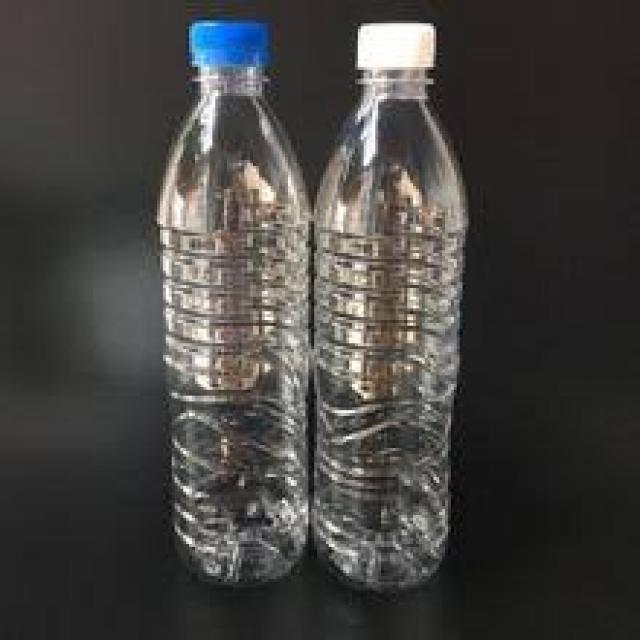Plastic: (306, 18, 470, 594), (156, 19, 308, 584)
